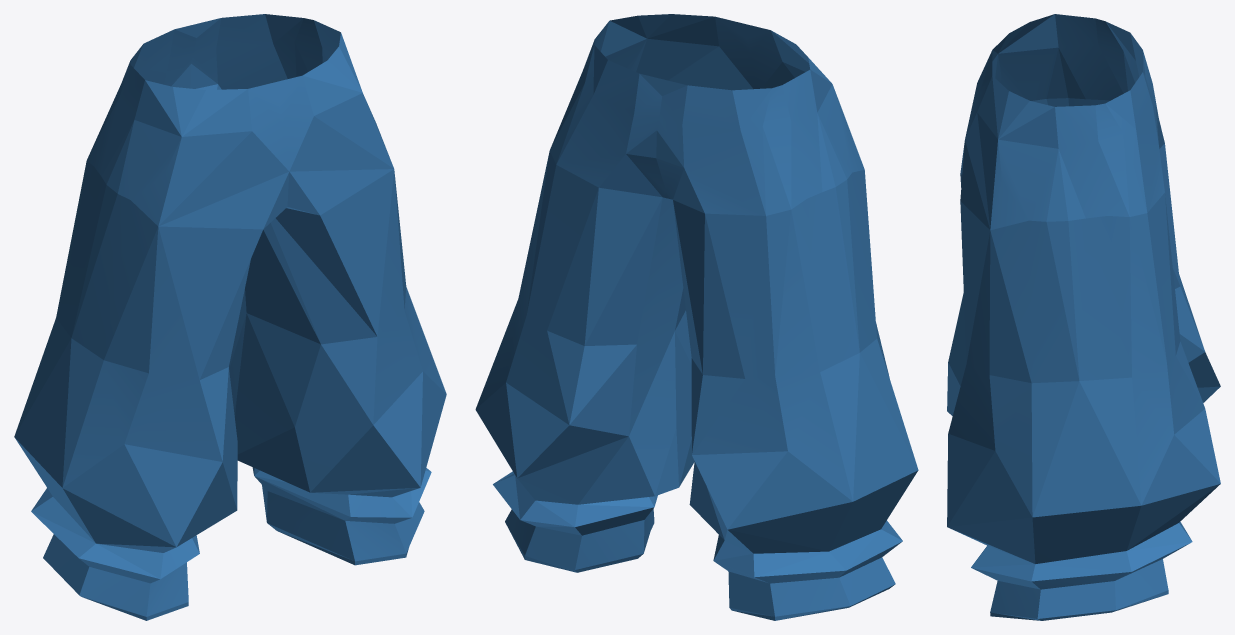
The model's file is pants4.fbx.
3 renders of one model, left to right at view 1: azimuth 30°, elevation 25°; view 2: azimuth 150°, elevation 25°; view 3: azimuth 270°, elevation 25°, orthographic. The views are drawn at different scales.
Visible parts, largest first — view 1: pant4; view 2: pant4; view 3: pant4.
Part boxes in pixels (left/top/right/bottom): pant4: left=14, top=14, right=446, bottom=620; pant4: left=475, top=14, right=918, bottom=620; pant4: left=947, top=14, right=1220, bottom=620.
Bounding box in the file's own units: 162 × 205 × 103.
